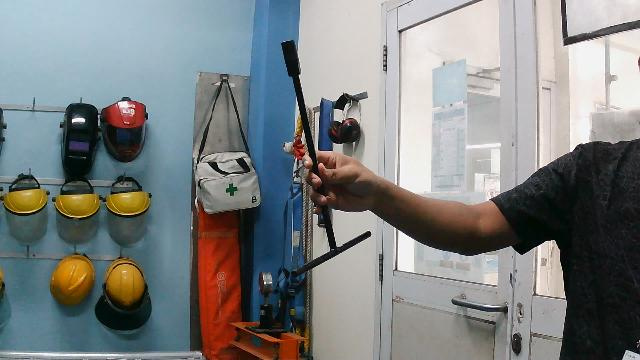kunci_t: (275, 38, 374, 282)
